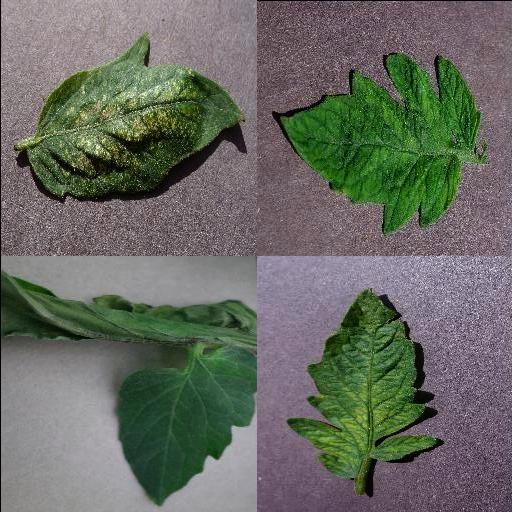Healthy: (115, 344, 256, 506)
Late Blight: (0, 270, 256, 344)
Mosaic Virus: (276, 52, 482, 238), (284, 286, 436, 482)
Spider Mites: (26, 35, 244, 201)
